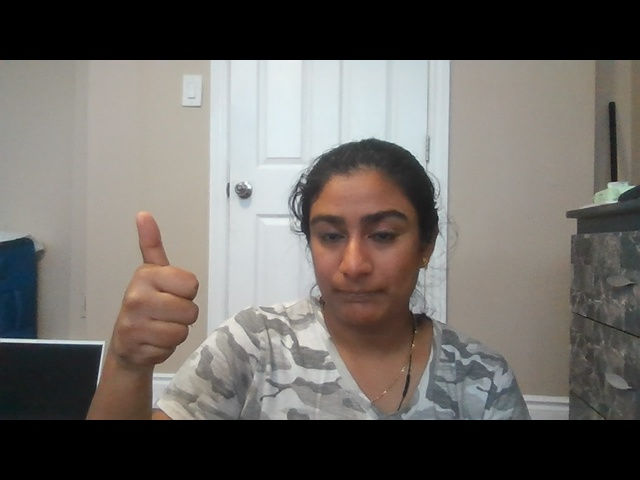yes: (102, 208, 203, 383)
